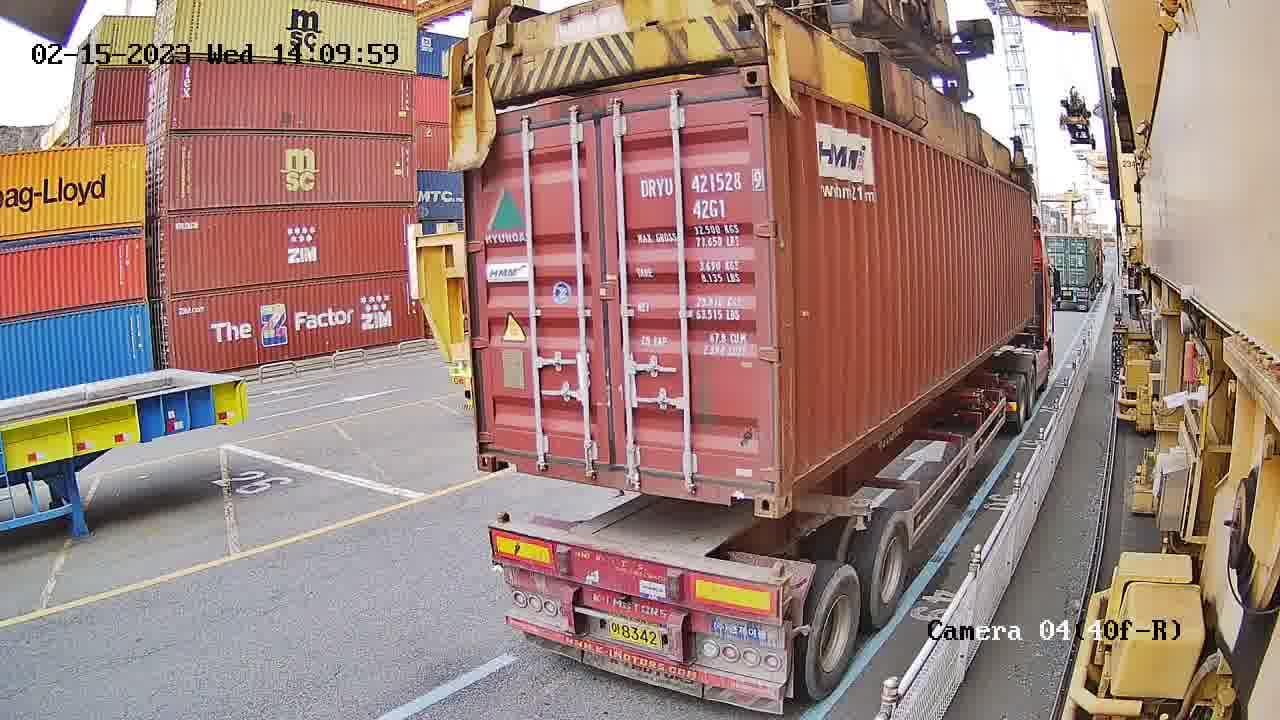Chassis: (488, 528, 788, 622)
Cone: (768, 558, 792, 585), (490, 507, 513, 527)
Hole_L: (776, 443, 819, 518), (475, 423, 522, 473)
Hole_R: (720, 452, 779, 517)
Tire: (809, 565, 862, 701), (872, 519, 910, 627)
